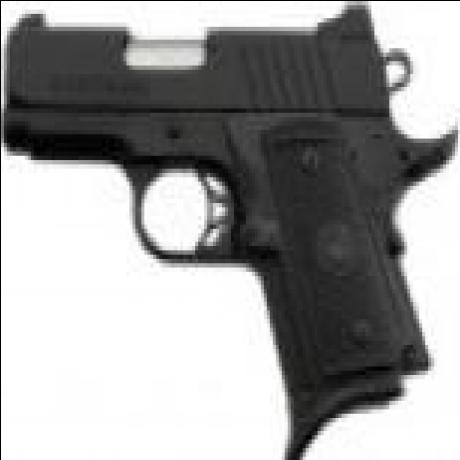weapon: (9, 0, 460, 460)
